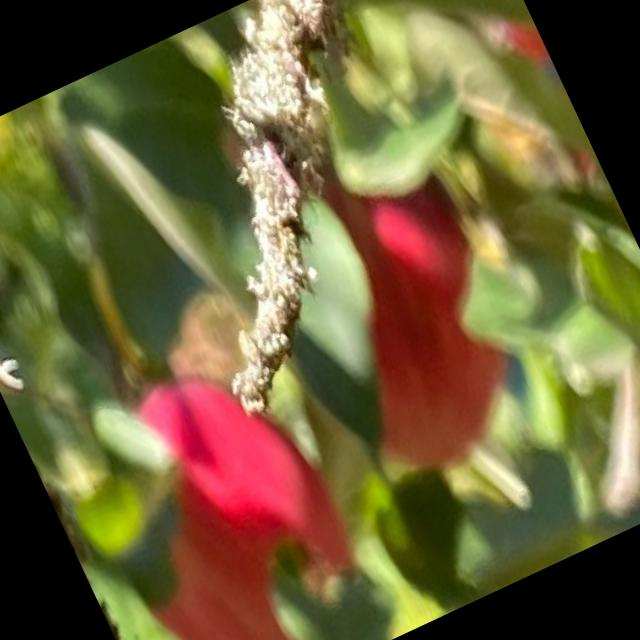Apples: (47, 334, 403, 639), (269, 138, 554, 486)
